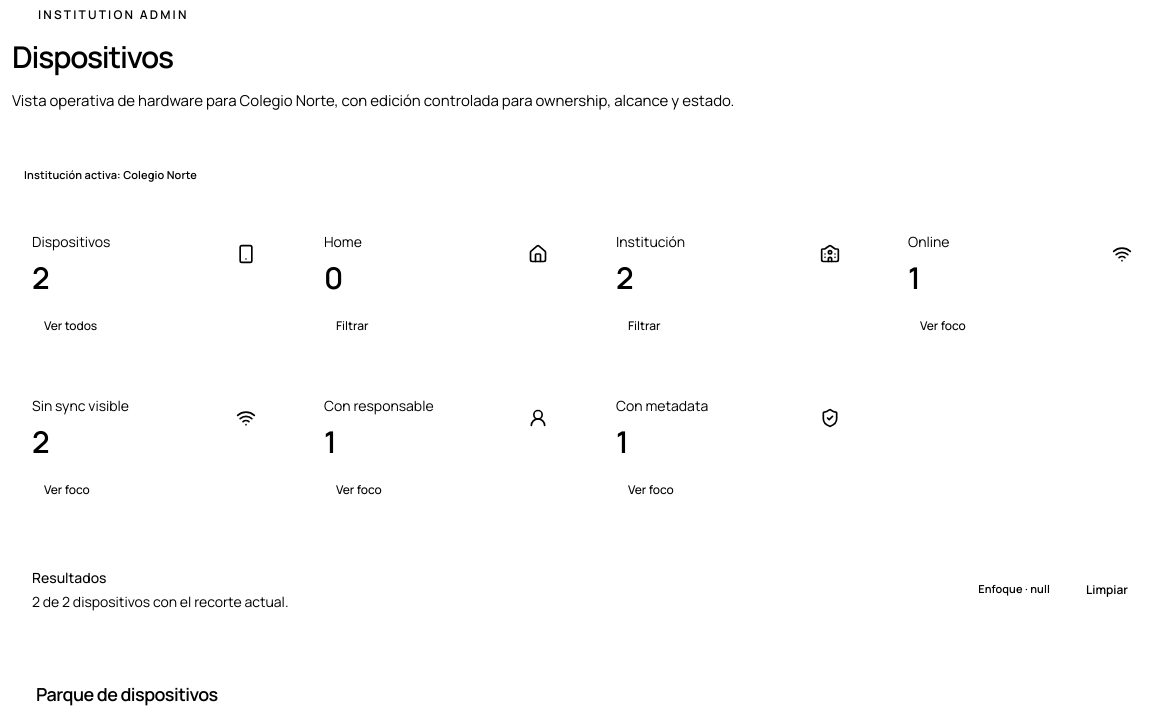
Test case: DevicesTable › activates focus from summary cards and shows the active result chip
Step 1. Click the button with aria-label "Ver foco Con responsable" → [359, 490], box [324,476,394,504]
(page scrolled)
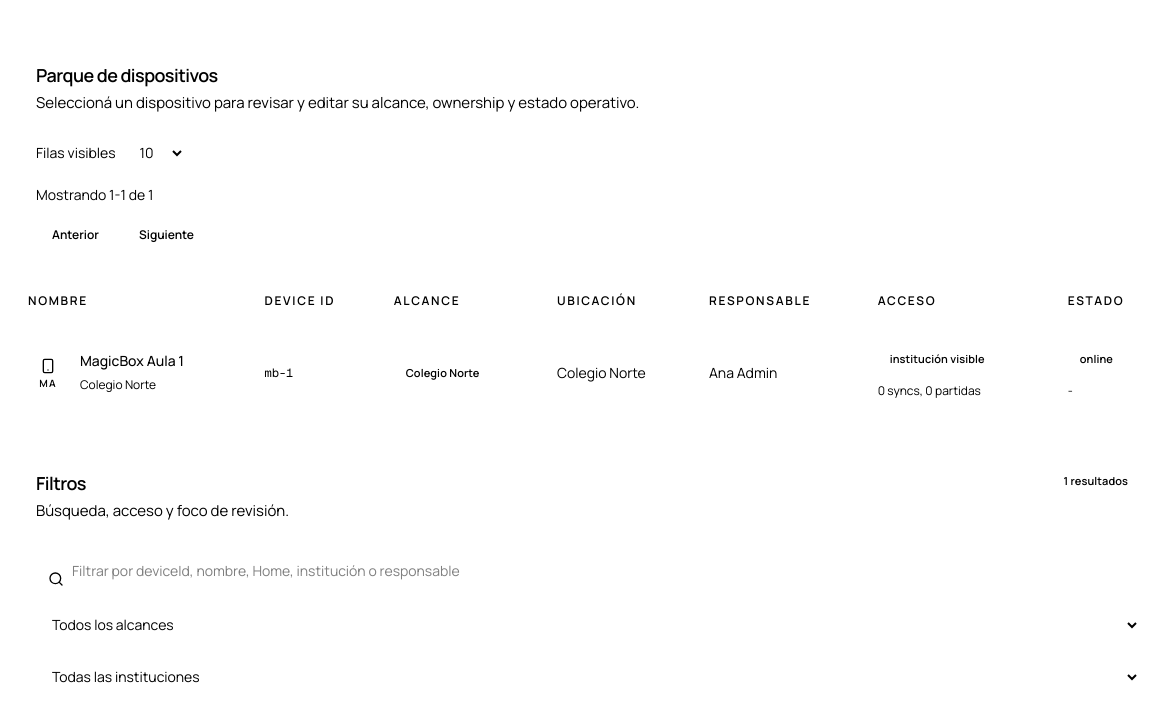
Expected: the text "MagicBox Aula 1" is shown, [80,348,184,372]
Expected: the text "MagicBox Aula 2" is not shown
